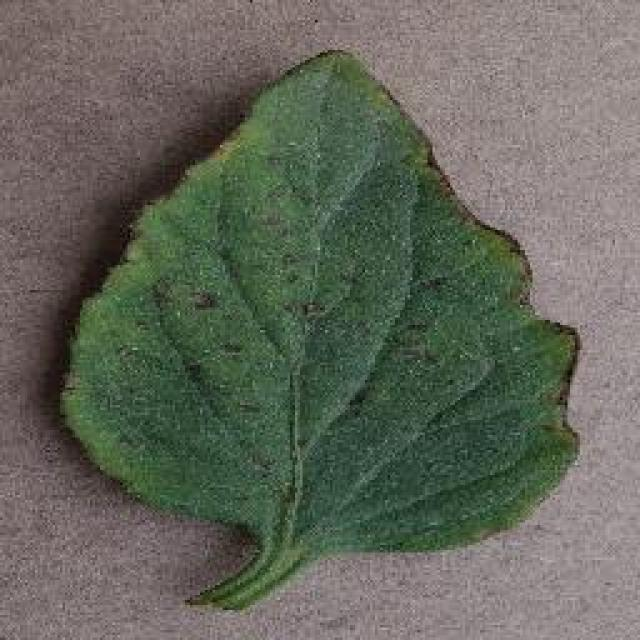Tomato___Bacterial_spot: (57, 45, 586, 621)
